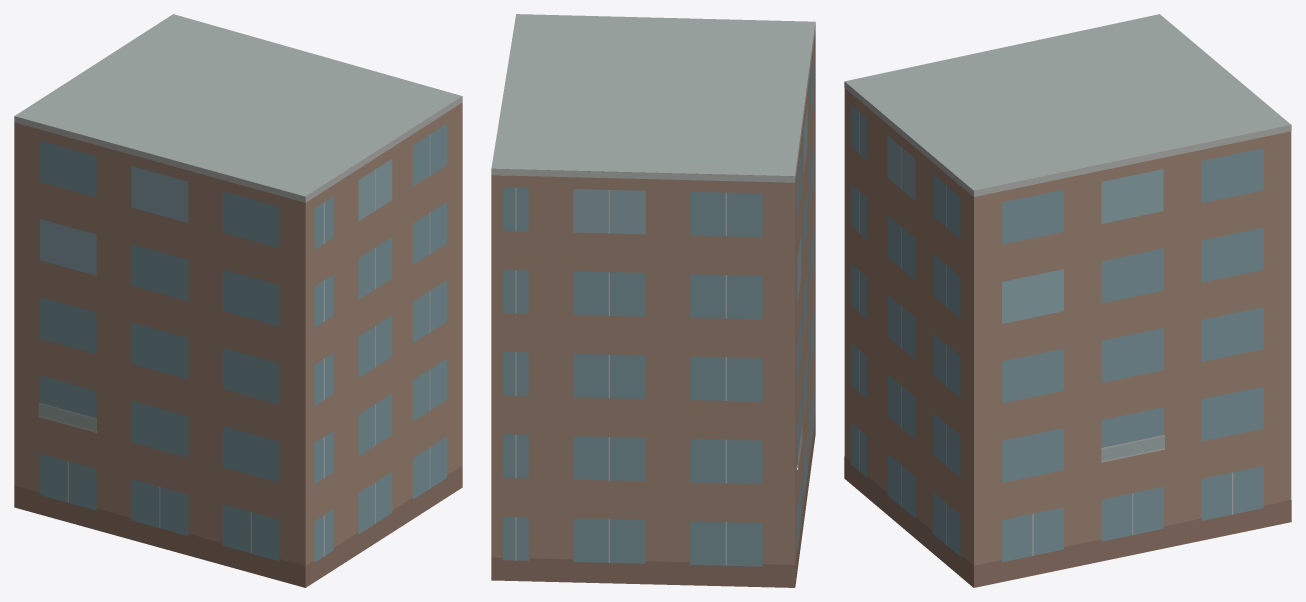
File: survey-upis-32584648.glb
3 renders of one model, left to right at view 1: azimuth 30°, elevation 25°; view 2: azimuth 150°, elevation 25°; view 3: azimuth 270°, elevation 25°, orthographic. The views are drawn at different scales.
Visible parts, largest first — view 1: survey-upis-32584648.tmp; view 2: survey-upis-32584648.tmp; view 3: survey-upis-32584648.tmp.
Part boxes in pixels (x1,y1,x2,y2): survey-upis-32584648.tmp: (14,14,462,587); survey-upis-32584648.tmp: (491,14,815,587); survey-upis-32584648.tmp: (844,14,1291,587).
Size of the model in its own units: 14.56 by 15.25 by 15.57.
